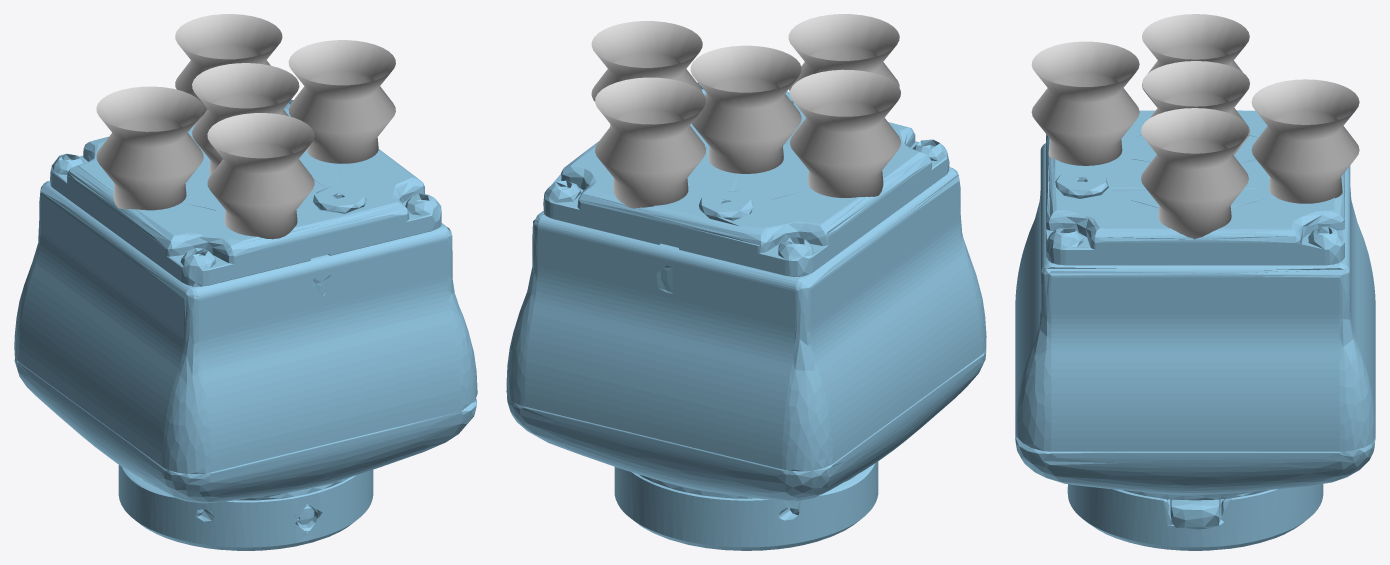
Rendered from sema_vgc10.dae.
3 renders of one model, left to right at view 1: azimuth 30°, elevation 25°; view 2: azimuth 150°, elevation 25°; view 3: azimuth 270°, elevation 25°, orthographic. The views are drawn at different scales.
Parts seen in each view (by area): view 1: base_link, Cylinder.001, Cylinder.003, Cylinder.002, Cylinder, Cylinder.005; view 2: base_link, Cylinder.005, Cylinder.003, Cylinder, Cylinder.002, Cylinder.001; view 3: base_link, Cylinder.002, Cylinder.005, Cylinder.001, Cylinder, Cylinder.003.
Part boxes in pixels (x1,y1,x2,y2): base_link: (14, 99, 477, 550); Cylinder.001: (207, 113, 314, 239); Cylinder.003: (96, 86, 203, 210); Cylinder.002: (288, 40, 395, 163); Cylinder: (192, 63, 299, 175); Cylinder.005: (175, 14, 282, 126); base_link: (506, 82, 986, 550); Cylinder.005: (595, 77, 706, 208); Cylinder.003: (790, 69, 900, 197); Cylinder: (690, 45, 801, 173); Cylinder.002: (591, 21, 702, 126); Cylinder.001: (788, 14, 899, 91); base_link: (1015, 110, 1375, 550); Cylinder.002: (1141, 108, 1248, 238); Cylinder.005: (1251, 79, 1359, 203); Cylinder.001: (1031, 41, 1139, 165); Cylinder: (1142, 61, 1249, 155); Cylinder.003: (1142, 14, 1249, 107).
Size of the model in its own units: 0.1 by 0.1 by 0.1275.
